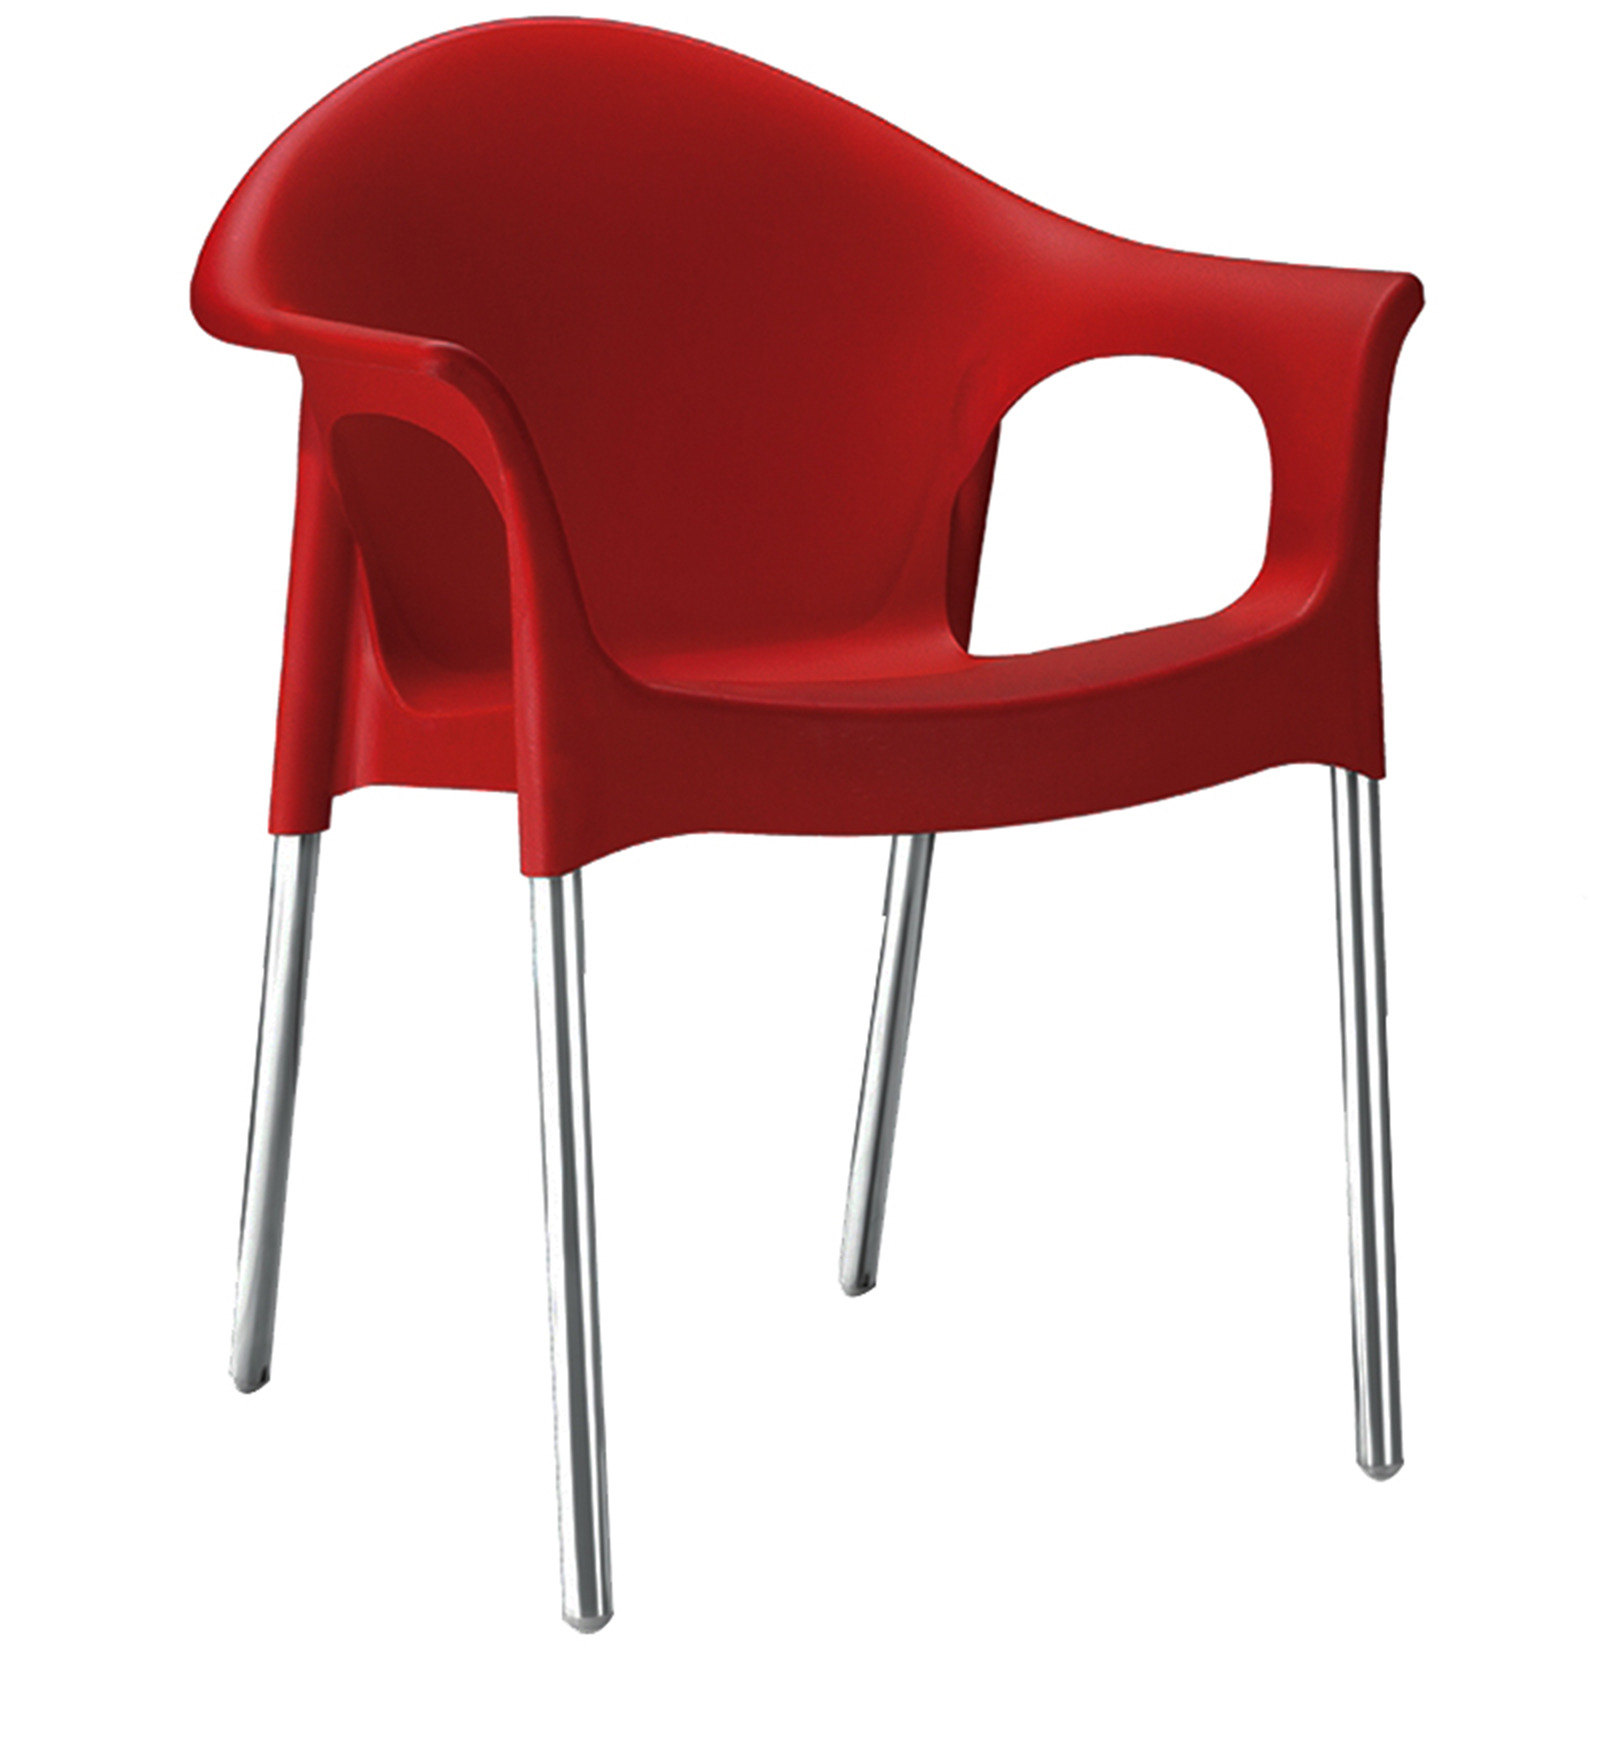Novella Visiter Chair With Arms in Red Colour by Nilkamal: (189, 12, 1438, 1627)
